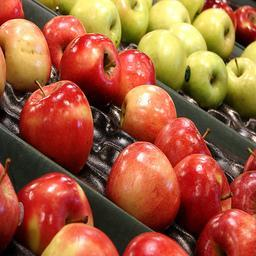apple: (17, 82, 93, 174), (105, 141, 180, 224), (15, 173, 93, 247), (60, 33, 121, 102), (173, 153, 231, 224), (1, 20, 50, 92), (119, 84, 178, 140), (193, 209, 256, 256), (136, 30, 186, 89), (182, 50, 227, 109), (154, 116, 210, 163), (41, 222, 121, 254), (192, 4, 235, 62), (69, 1, 121, 47), (41, 15, 86, 63), (223, 55, 256, 118), (117, 50, 156, 95), (122, 231, 188, 255), (113, 1, 149, 45), (229, 171, 256, 216), (232, 6, 256, 44)
